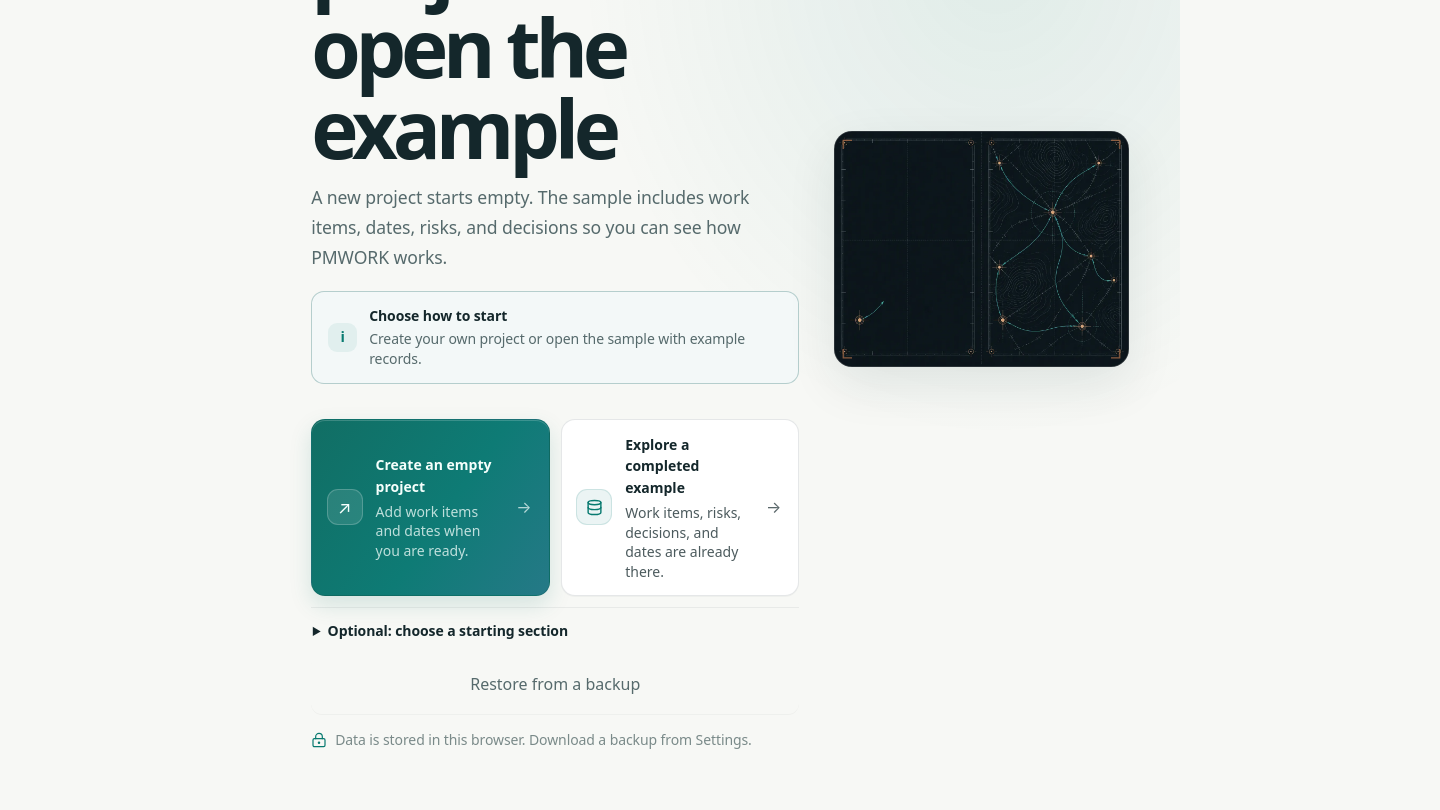
it: workspace interactions › opens the command palette with a keyboard shortcut
The width and height of the screenshot is (1440, 810).
(page scrolled)
Click the button "Explore a completed example" at (680, 508), box [561,419,799,596]
(page scrolled)
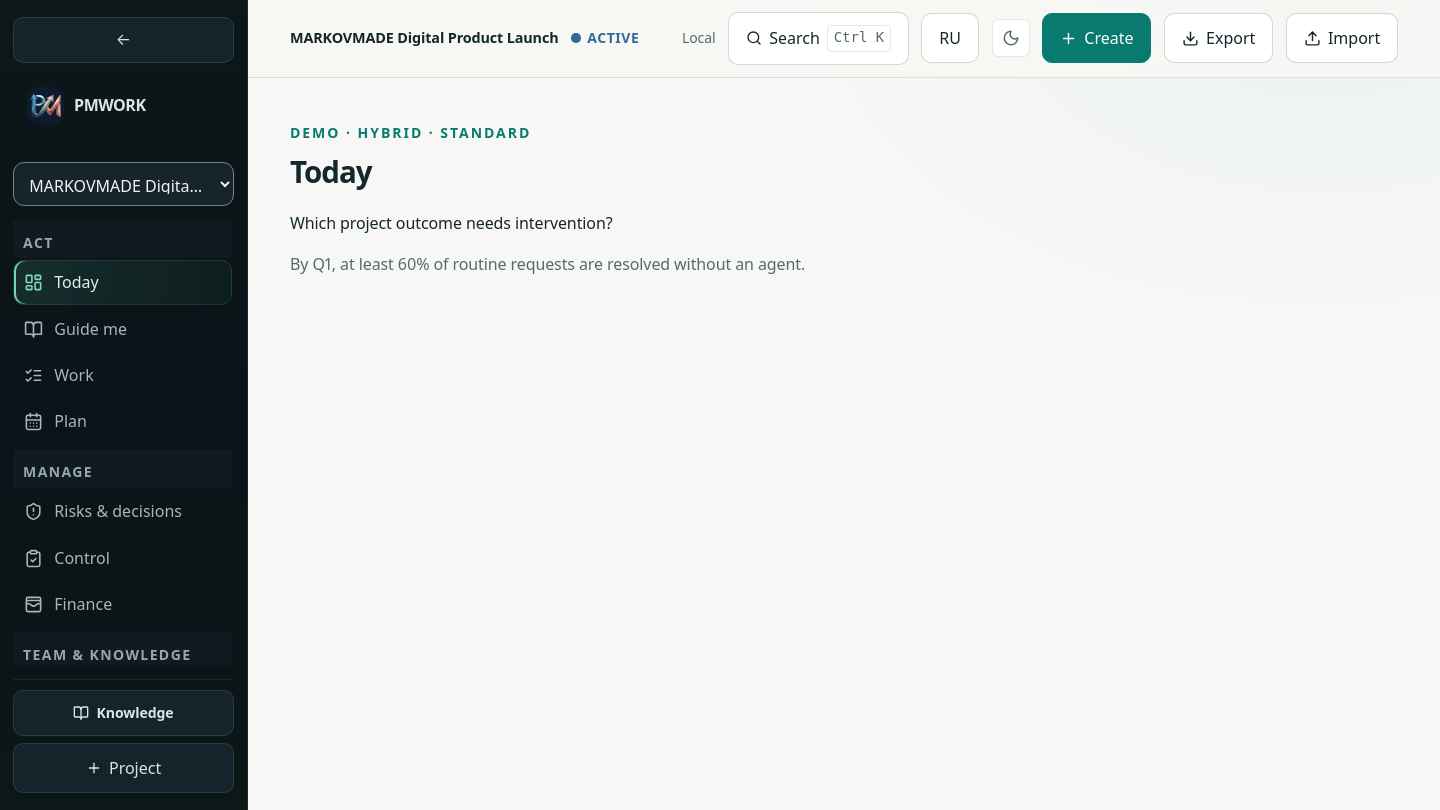
Press k
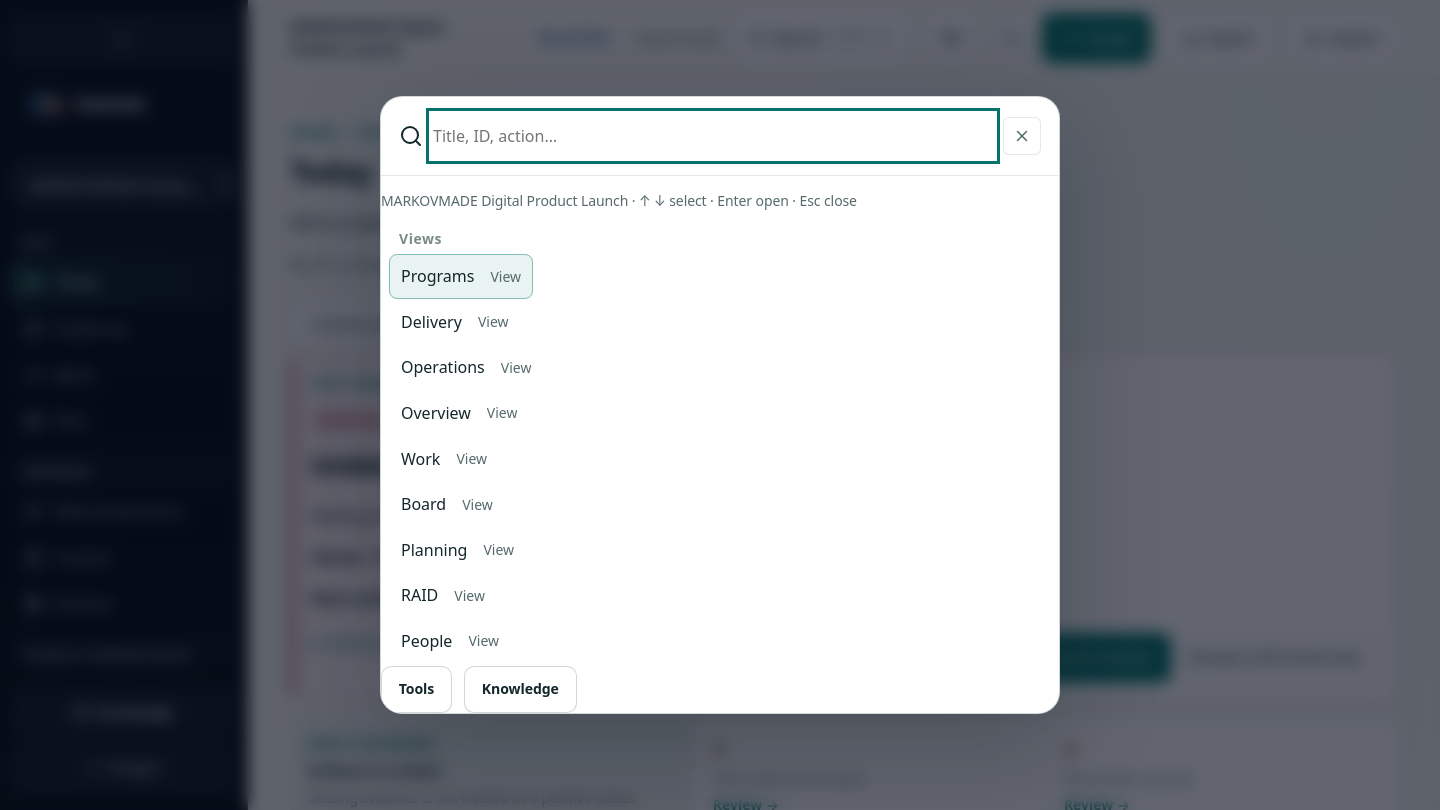
Expected: the dialog named "Command palette" is shown, [380,96,1060,714]
